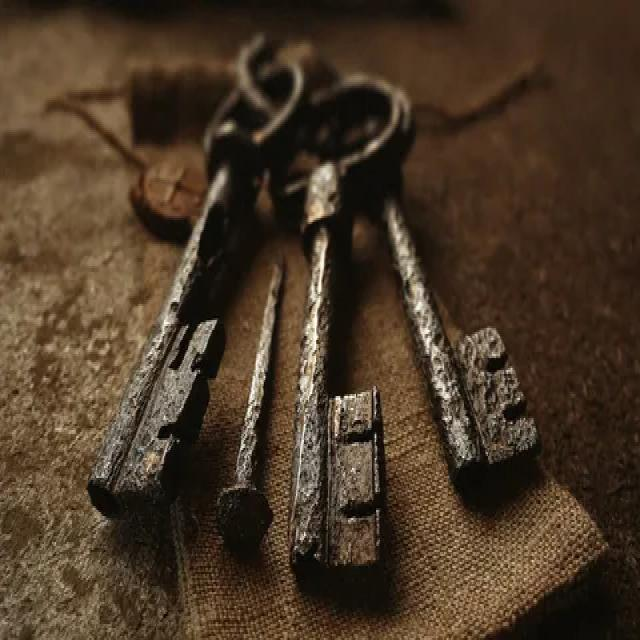key: (95, 38, 279, 530)
